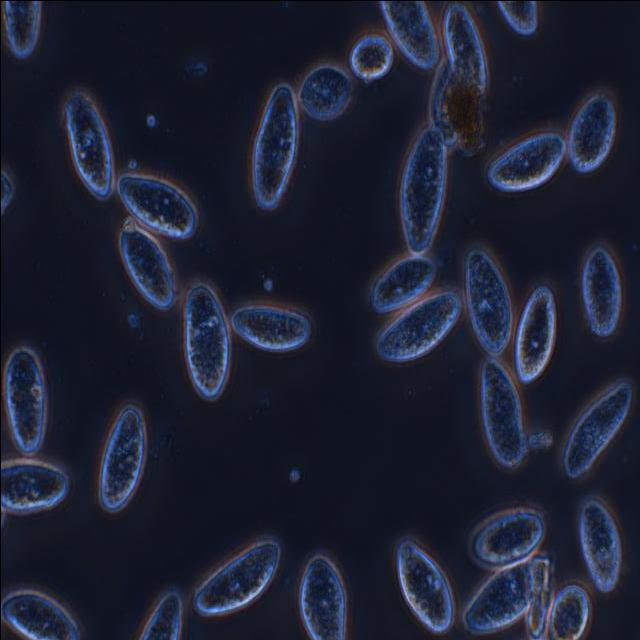Cell: (185, 528, 295, 632), (364, 278, 475, 377), (456, 540, 560, 640), (238, 80, 312, 214), (104, 159, 210, 249), (481, 119, 578, 209), (388, 531, 464, 640), (56, 86, 123, 205), (504, 279, 570, 391), (94, 399, 153, 518), (459, 243, 518, 358), (114, 219, 182, 318), (416, 55, 486, 150), (398, 124, 447, 255), (360, 246, 446, 317), (573, 240, 632, 343), (181, 281, 231, 402), (560, 89, 623, 179), (574, 494, 628, 596), (478, 357, 526, 469), (3, 349, 49, 458), (0, 581, 84, 640), (292, 59, 361, 130), (230, 300, 313, 353), (298, 556, 345, 640), (342, 25, 401, 87), (474, 511, 544, 563), (0, 461, 69, 510), (548, 582, 590, 640), (141, 594, 180, 640), (496, 0, 538, 35)
